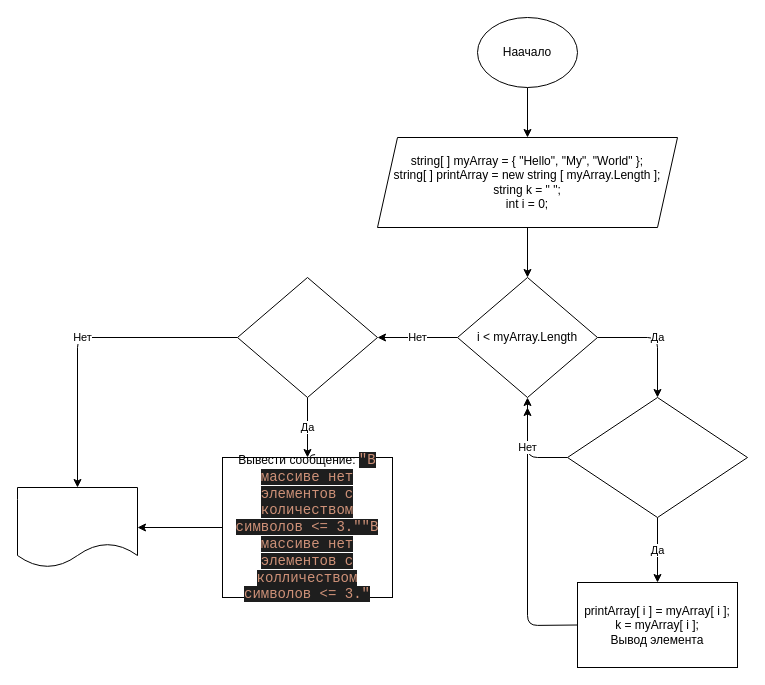
This 765x685 diagram has some shape labels left out. The shapes that lost their labels are listed below. From the top down, each one's centre as x and y in pixels, then its label:
the point at 307,337: if ( k.Length > 3)
the point at 657,457: if (myArray[ i }.Length <= 3)
the point at 77,527: Конец
